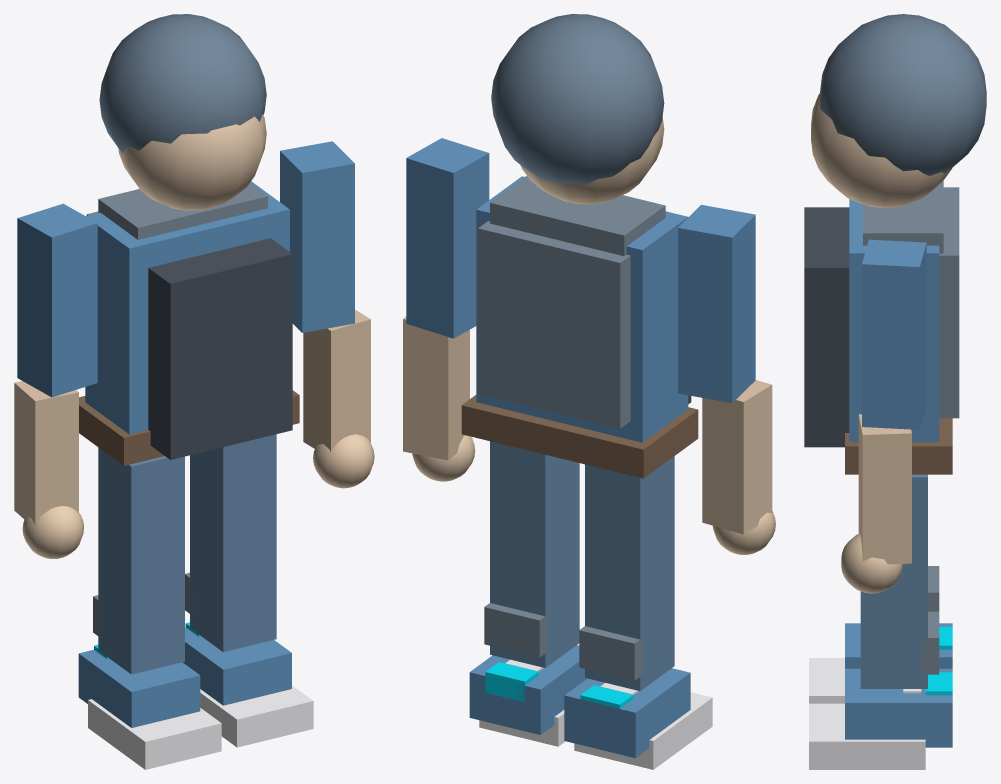
Rendered from operator.glb.
3 views of the same model, side by side, from view 1: azimuth 30°, elevation 25°; view 2: azimuth 150°, elevation 25°; view 3: azimuth 270°, elevation 25° (orthographic). The views are drawn at different scales.
Visible parts, largest first — view 1: pants (×2), backpack, upper_arm (×2), helmet, forearm (×2), torso, sneaker_body (×2), sneaker_sole (×2), head, collar, belt, hand_r (+1 smaller); view 2: pants (×2), upper_arm (×2), vest, helmet, forearm (×2), torso, sneaker_body (×2), belt, collar, sneaker_sole (×2), head, knee_pad_l (+4 smaller); view 3: helmet, upper_arm, backpack, pants, forearm, sneaker_body (×2), sneaker_sole (×2), torso, head, vest, collar, belt (+4 smaller).
Boxes of the visible parts, box(x1,y1,x2,y2) form: pants (×2): box(98, 434, 276, 674); backpack: box(148, 238, 292, 459); upper_arm (×2): box(17, 141, 354, 397); helmet: box(99, 14, 266, 153); forearm (×2): box(14, 309, 370, 525); torso: box(85, 181, 289, 434); sneaker_body (×2): box(78, 627, 291, 727); sneaker_sole (×2): box(88, 685, 313, 769); head: box(118, 114, 266, 210); collar: box(98, 183, 267, 239); belt: box(79, 390, 299, 465); hand_r: box(313, 434, 374, 488); pants (×2): box(490, 441, 674, 691); upper_arm (×2): box(406, 138, 755, 403); vest: box(478, 221, 630, 428); helmet: box(491, 14, 664, 184); forearm (×2): box(403, 316, 772, 534); torso: box(476, 176, 688, 442); sneaker_body (×2): box(469, 645, 690, 758); belt: box(461, 395, 698, 478); collar: box(490, 176, 665, 256); sneaker_sole (×2): box(479, 692, 712, 769); head: box(520, 117, 664, 204); knee_pad_l: box(579, 626, 643, 680); helmet: box(820, 14, 986, 175); upper_arm: box(862, 239, 926, 429); backpack: box(804, 207, 849, 447); pants: box(860, 474, 927, 688); forearm: box(858, 414, 911, 564); sneaker_body (×2): box(845, 623, 952, 747); sneaker_sole (×2): box(809, 658, 925, 769); torso: box(849, 199, 939, 442); head: box(811, 93, 952, 208); vest: box(939, 187, 959, 418); collar: box(863, 181, 943, 253); belt: box(845, 418, 952, 474).
Size of the model in its own units: 0.9 by 1.74 by 0.4052.
